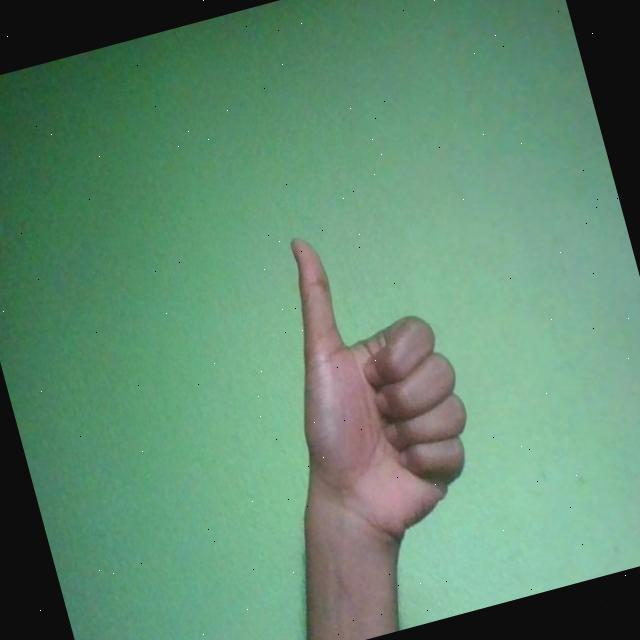Good Job: (251, 204, 495, 559)
